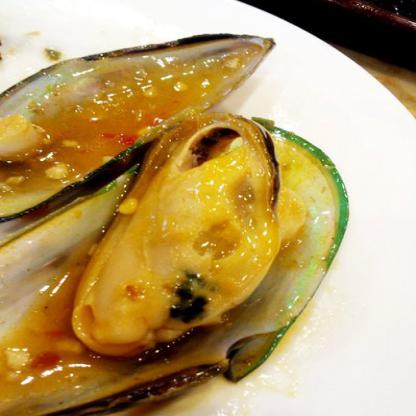mussel: (0, 119, 352, 415)
